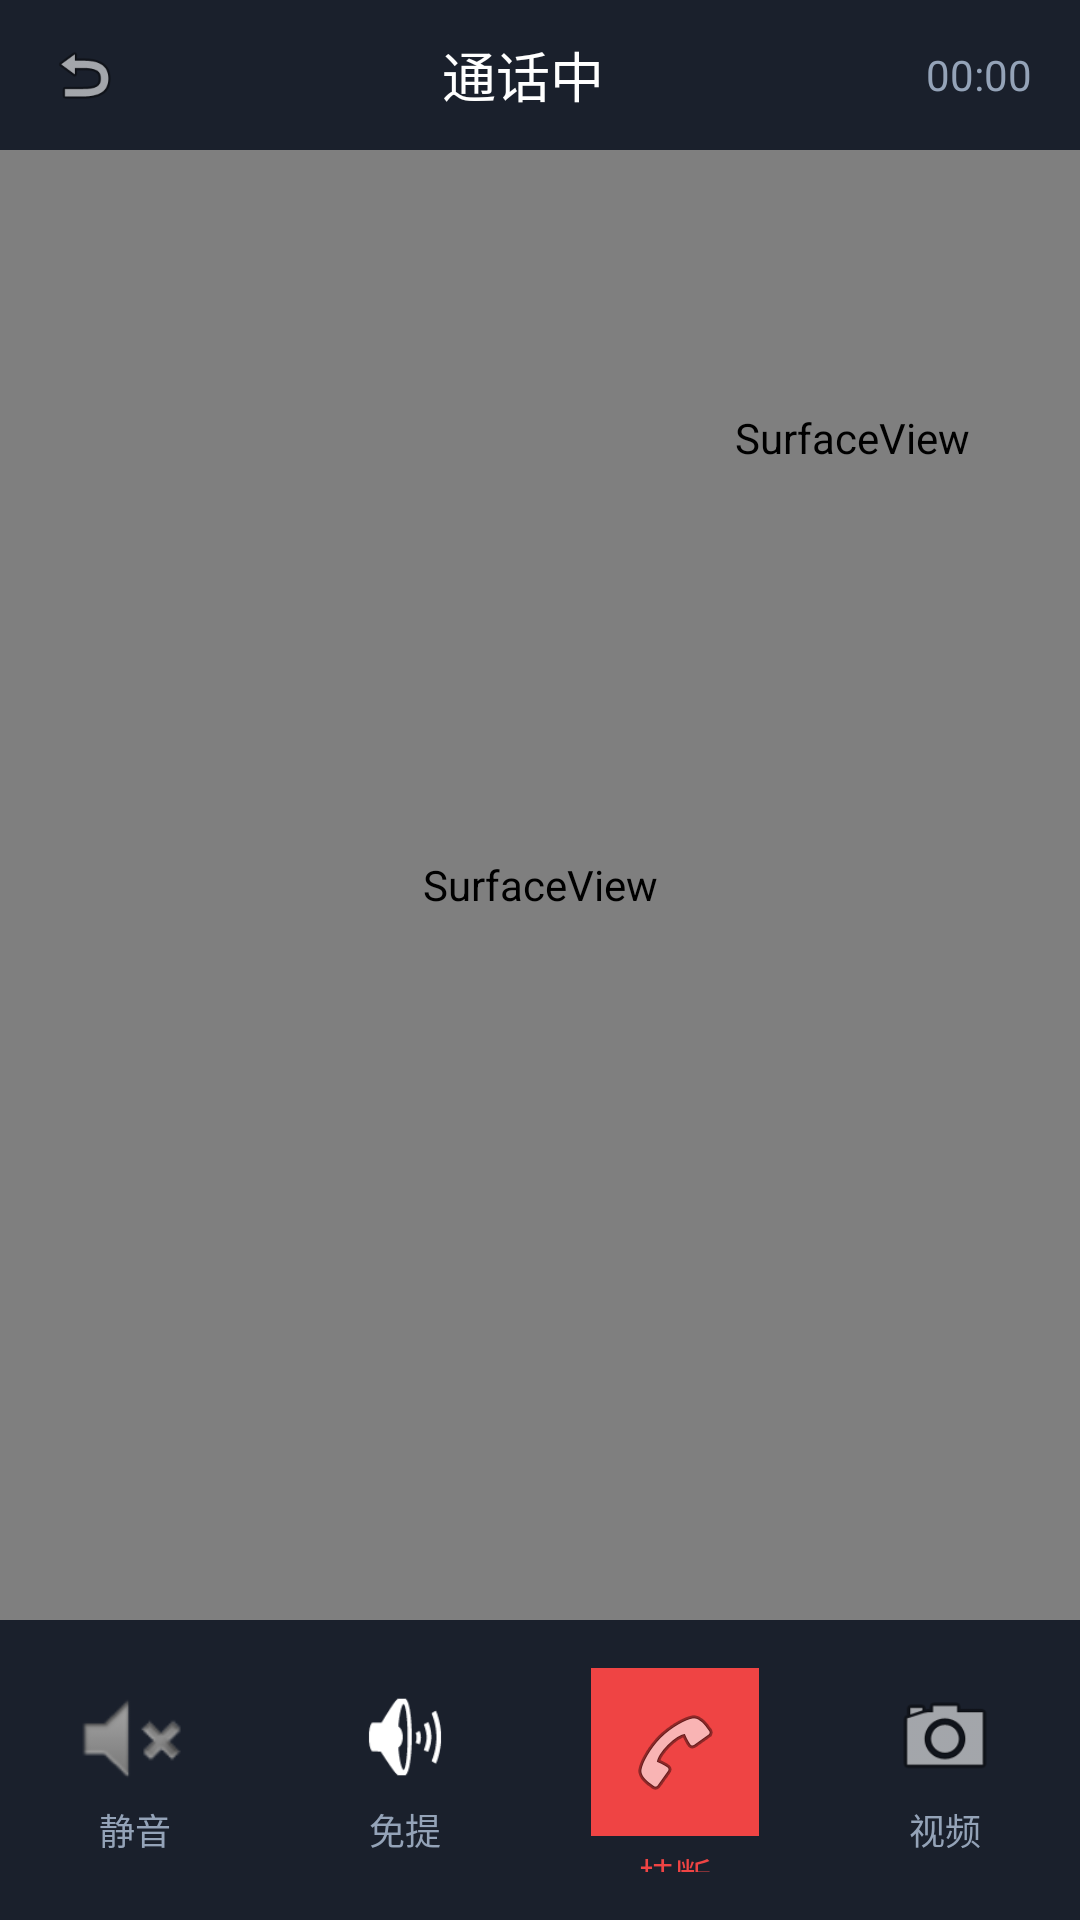

Named icons in this screenshot (1080×1920) and their bounding boxes, [x1,y1,x2,y2]:
返回: [61,54,109,97]
